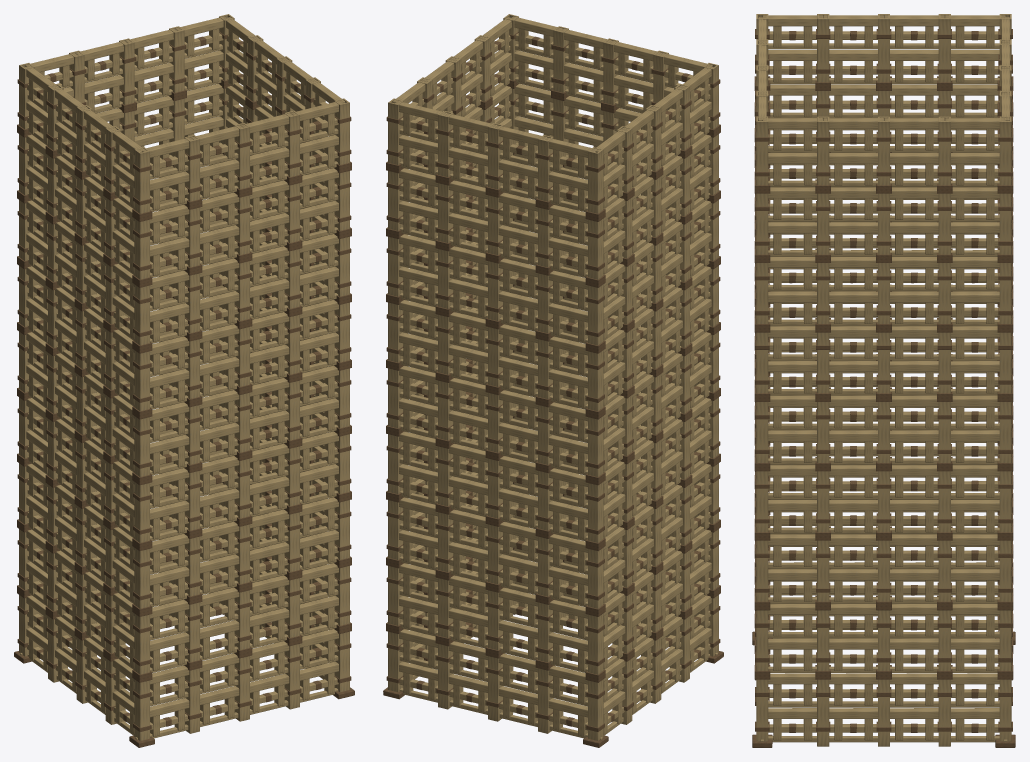
The picture shows the model from 3 angles, left to right: view 1: azimuth 30°, elevation 25°; view 2: azimuth 150°, elevation 25°; view 3: azimuth 270°, elevation 25°; orthographic projection. The views are drawn at different scales.
Parts seen in each view (by area): view 1: Tier 8 side 0 post 0, Tier 0 side 0 post 0, Tier 3 side 0 post 0, Tier 4 side 0 post 0, Tier 6 side 0 post 0, Tier 5 side 0 post 0, Tier 1 side 0 post 0, Tier 2 side 0 post 0, Tier 7 side 0 post 0, Tier 8 side 2 post 1, Tier 8 side 2 post 2, Tier 8 side 1 post 0 (+39 smaller); view 2: Tier 8 side 3 post 0, Tier 0 side 3 post 0, Tier 3 side 3 post 0, Tier 4 side 3 post 0, Tier 6 side 3 post 0, Tier 5 side 3 post 0, Tier 1 side 3 post 0, Tier 2 side 3 post 0, Tier 7 side 3 post 0, Tier 8 side 0 post 3, Tier 8 side 2 post 0, Tier 8 side 0 post 2 (+39 smaller); view 3: Tier 8 side 1 post 3, Tier 8 side 1 post 1, Tier 8 side 1 post 0, Tier 8 side 2 post 0, Tier 0 side 1 post 1, Tier 0 side 1 post 3, Tier 8 side 3 post 1, Tier 8 side 3 post 3, Tier 8 side 1 post 2, Tier 0 side 1 post 2, Tier 8 side 3 post 2, Tier 0 side 1 post 0 (+120 smaller).
Boxes of the visible parts, bbox=[...] form: Tier 8 side 0 post 0: bbox=[134, 147, 149, 213]; Tier 0 side 0 post 0: bbox=[134, 679, 149, 740]; Tier 3 side 0 post 0: bbox=[134, 482, 149, 542]; Tier 4 side 0 post 0: bbox=[134, 416, 149, 476]; Tier 6 side 0 post 0: bbox=[134, 284, 149, 345]; Tier 5 side 0 post 0: bbox=[134, 350, 149, 411]; Tier 1 side 0 post 0: bbox=[134, 613, 149, 674]; Tier 2 side 0 post 0: bbox=[134, 547, 149, 608]; Tier 7 side 0 post 0: bbox=[134, 218, 149, 279]; Tier 8 side 2 post 1: bbox=[169, 26, 184, 92]; Tier 8 side 2 post 2: bbox=[119, 38, 134, 104]; Tier 8 side 1 post 0: bbox=[334, 98, 349, 164]; Tier 8 side 3 post 0: bbox=[588, 147, 603, 213]; Tier 0 side 3 post 0: bbox=[588, 679, 603, 740]; Tier 3 side 3 post 0: bbox=[588, 482, 603, 542]; Tier 4 side 3 post 0: bbox=[588, 416, 603, 476]; Tier 6 side 3 post 0: bbox=[588, 284, 603, 345]; Tier 5 side 3 post 0: bbox=[588, 350, 603, 411]; Tier 1 side 3 post 0: bbox=[588, 613, 603, 674]; Tier 2 side 3 post 0: bbox=[588, 547, 603, 608]; Tier 7 side 3 post 0: bbox=[588, 218, 603, 279]; Tier 8 side 0 post 3: bbox=[553, 26, 568, 92]; Tier 8 side 2 post 0: bbox=[388, 98, 403, 164]; Tier 8 side 0 post 2: bbox=[603, 38, 618, 104]; Tier 8 side 1 post 3: bbox=[938, 116, 950, 185]; Tier 8 side 1 post 1: bbox=[817, 116, 829, 185]; Tier 8 side 1 post 0: bbox=[756, 116, 768, 185]; Tier 8 side 2 post 0: bbox=[999, 116, 1011, 185]; Tier 0 side 1 post 1: bbox=[817, 679, 829, 746]; Tier 0 side 1 post 3: bbox=[938, 679, 950, 746]; Tier 8 side 3 post 1: bbox=[938, 14, 950, 82]; Tier 8 side 3 post 3: bbox=[817, 14, 829, 82]; Tier 8 side 1 post 2: bbox=[878, 116, 889, 185]; Tier 0 side 1 post 2: bbox=[878, 679, 889, 746]; Tier 8 side 3 post 2: bbox=[878, 14, 889, 82]; Tier 0 side 1 post 0: bbox=[756, 679, 768, 741].
Size of the model in its own units: 1.95 by 5.1 by 1.95.
2 materials, 2 textured.
